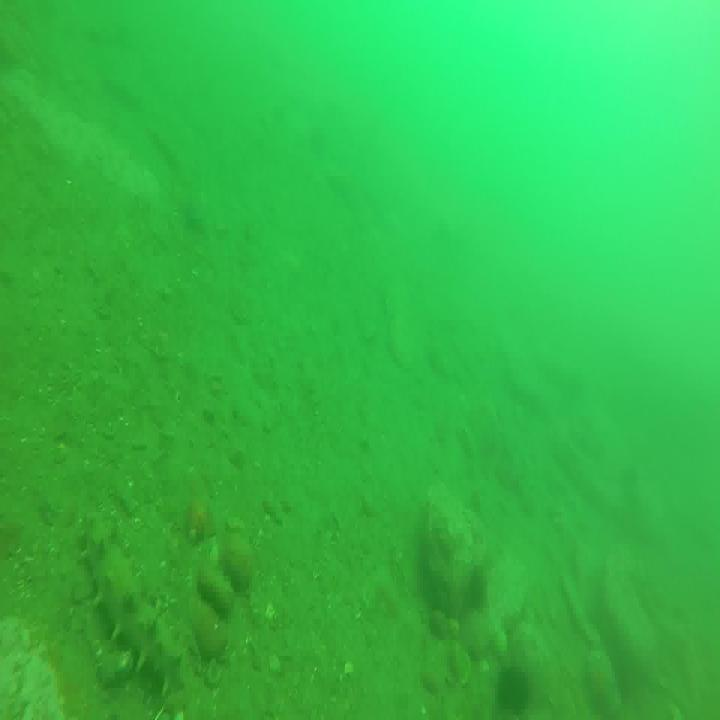echinus: (495, 659, 533, 720)
holothurian: (83, 516, 185, 695)
